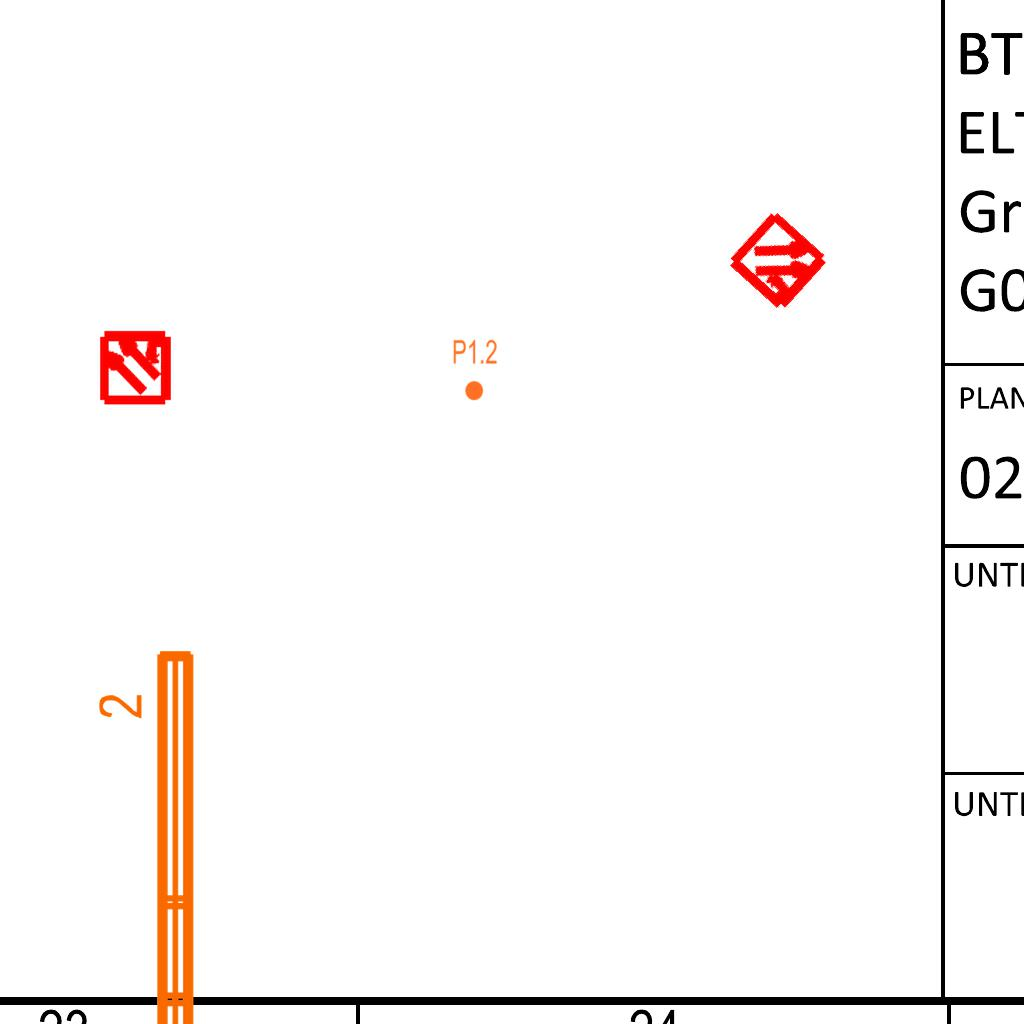Ambulanz_Pendelleuchte_LED: (94, 642, 206, 1024)
Downlight_LED_Einbauleuchten_Flur: (452, 338, 498, 402)
OT_Multisensormelder_(Kombination_RMO_WMD): (699, 182, 860, 343), (79, 309, 192, 422)
